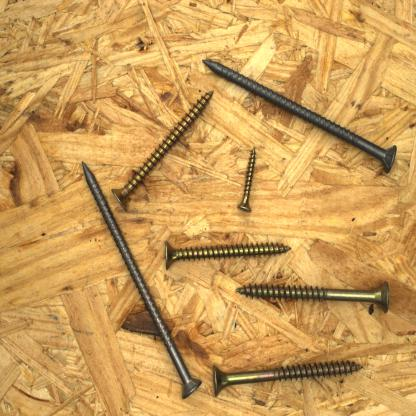screw: (78, 154, 204, 406), (200, 54, 399, 176), (109, 84, 220, 212), (210, 350, 366, 396), (233, 277, 392, 316), (162, 232, 294, 270), (233, 140, 268, 214)
